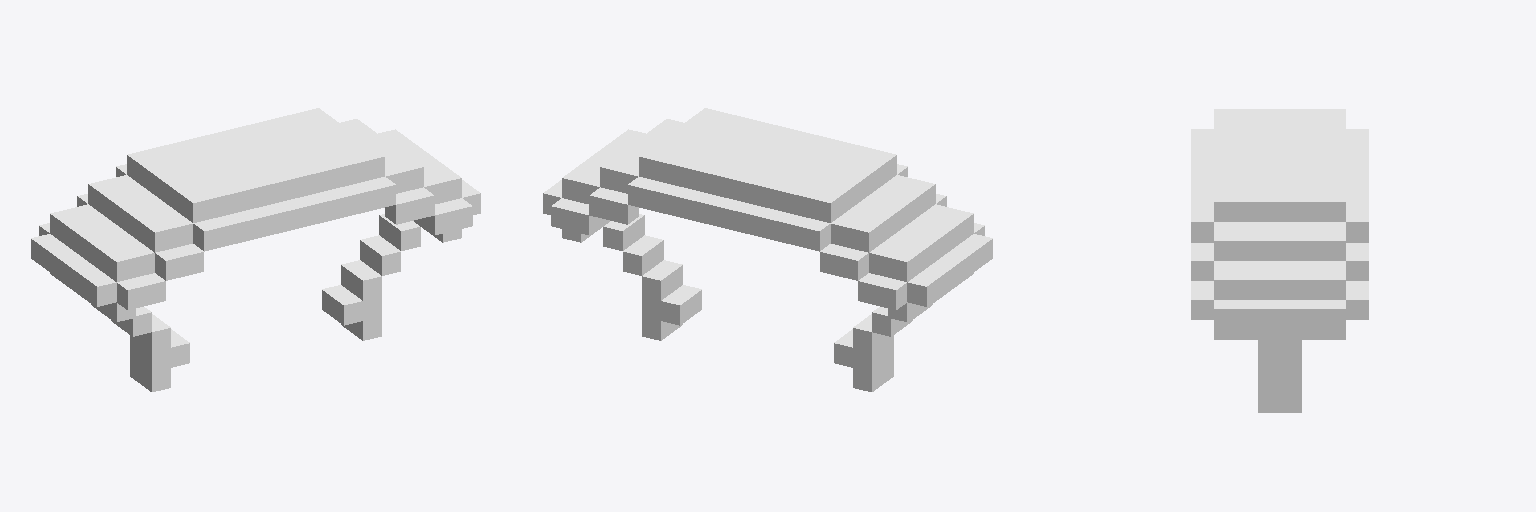
Rendered from GliderBlue.obj.
3 views of the same model, side by side, from view 1: azimuth 30°, elevation 25°; view 2: azimuth 150°, elevation 25°; view 3: azimuth 270°, elevation 25° (orthographic).
Parts seen in each view (by area): view 1: object 1; view 2: object 1; view 3: object 1.
Boxes of the visible parts, x1,y1,x2,y2 form: object 1: [31, 108, 480, 391]; object 1: [543, 108, 992, 391]; object 1: [1191, 109, 1368, 412].
Size of the model in its own units: 2 by 1 by 0.8.